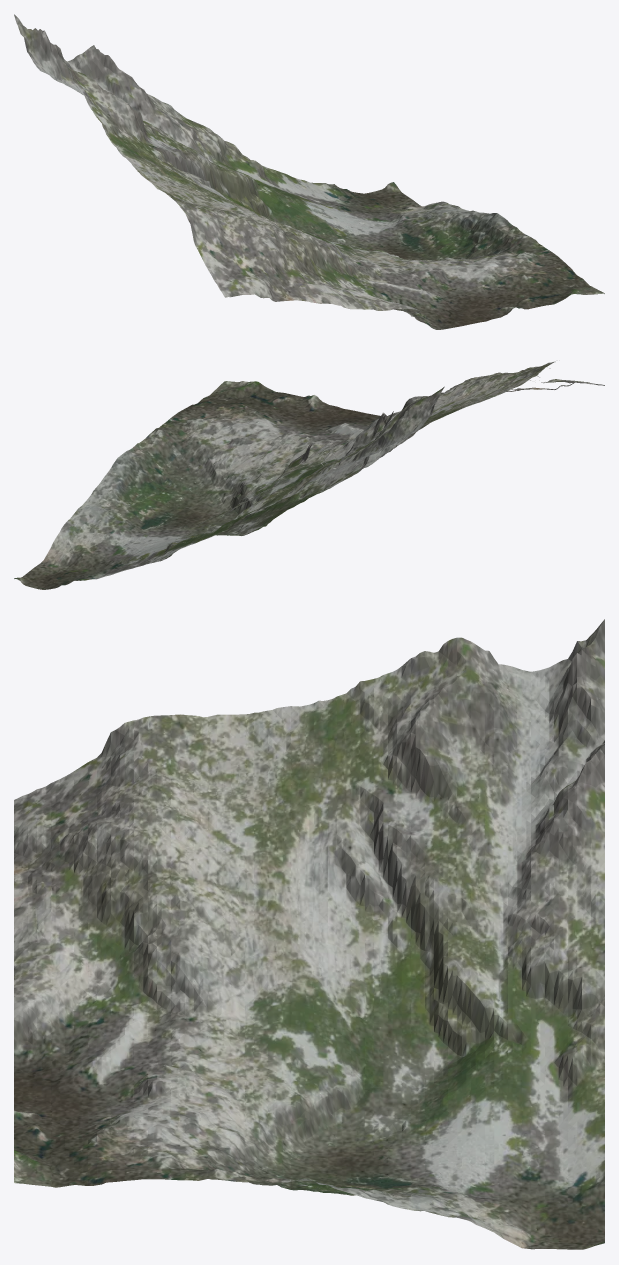
3 renders of one model, top to bottom at view 1: azimuth 30°, elevation 25°; view 2: azimuth 150°, elevation 25°; view 3: azimuth 270°, elevation 25°, orthographic. The views are drawn at different scales.
Bounding box in the file's own units: 500 × 335 × 481.
1 material, 1 textured.
